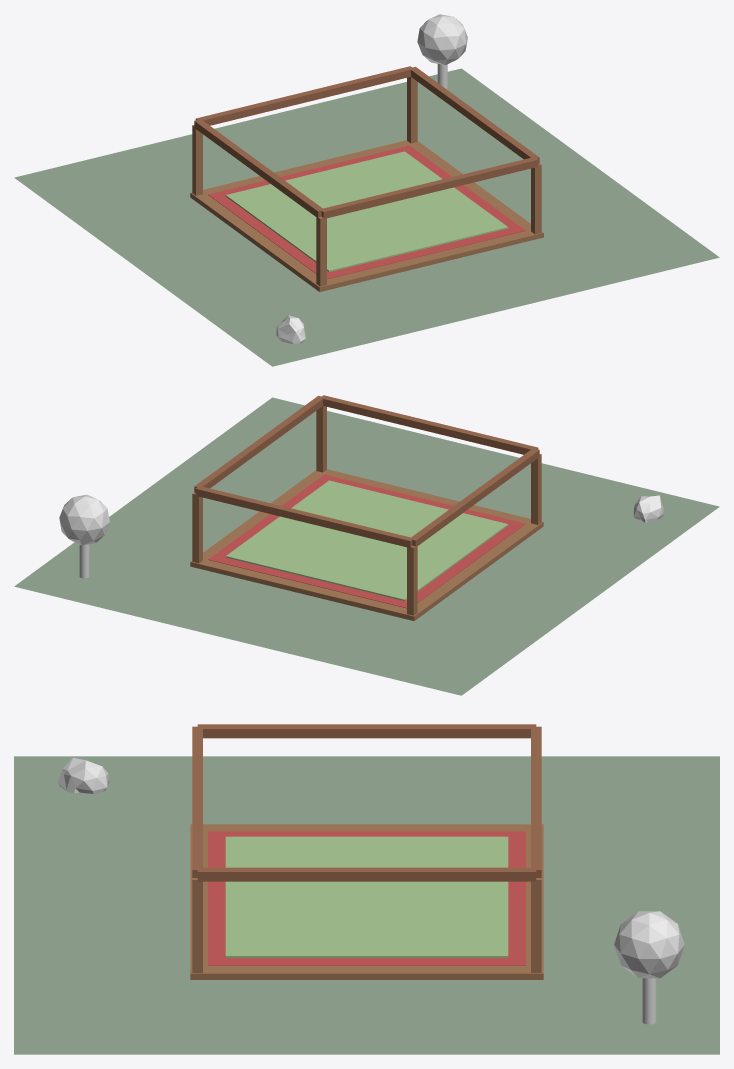
File: dojo_vr.fbx
3 views of the same model, one above another, from view 1: azimuth 30°, elevation 25°; view 2: azimuth 150°, elevation 25°; view 3: azimuth 270°, elevation 25° (orthographic). The views are drawn at different scales.
Parts seen in each view (by area): view 1: Ground, TatamiCenter, PlatformBase, TatamiBorder, Beam1, Beam2, Tree1, Beam3, Beam4, Post1, Post2, Post3 (+2 smaller); view 2: Ground, TatamiCenter, PlatformBase, TatamiBorder, Beam2, Beam1, Tree1, Beam3, Beam4, Post3, Post4, Post1 (+2 smaller); view 3: Ground, TatamiCenter, PlatformBase, TatamiBorder, Beam4, Beam3, Tree1, Beam2, Beam1, Rock1, Post2, Post4.
Part boxes in pixels (x1,y1,x2,y2): Ground: [14, 68, 719, 366]; TatamiCenter: [225, 151, 508, 271]; PlatformBase: [190, 140, 543, 291]; TatamiBorder: [208, 145, 525, 279]; Beam1: [321, 158, 538, 218]; Beam2: [195, 66, 413, 125]; Tree1: [417, 14, 467, 89]; Beam3: [194, 120, 324, 217]; Beam4: [411, 66, 539, 163]; Post1: [316, 216, 326, 286]; Post2: [531, 163, 541, 234]; Post3: [192, 125, 202, 195]; Ground: [14, 397, 719, 695]; TatamiCenter: [225, 480, 508, 600]; PlatformBase: [190, 469, 543, 620]; TatamiBorder: [208, 474, 525, 608]; Beam2: [195, 486, 413, 547]; Beam1: [322, 395, 538, 454]; Tree1: [59, 494, 109, 578]; Beam3: [411, 448, 539, 546]; Beam4: [194, 395, 324, 492]; Post3: [407, 545, 417, 615]; Post4: [192, 492, 202, 563]; Post1: [531, 454, 541, 524]; Ground: [14, 756, 719, 1054]; TatamiCenter: [225, 836, 508, 957]; PlatformBase: [190, 824, 543, 979]; TatamiBorder: [208, 831, 525, 965]; Beam4: [197, 867, 536, 881]; Beam3: [197, 724, 536, 738]; Tree1: [614, 911, 684, 1024]; Beam2: [531, 726, 541, 877]; Beam1: [192, 726, 202, 877]; Rock1: [58, 757, 109, 793]; Post2: [192, 878, 202, 972]; Post4: [531, 878, 541, 972].
Bounding box in the file's own units: 2000 × 405 × 2000.
